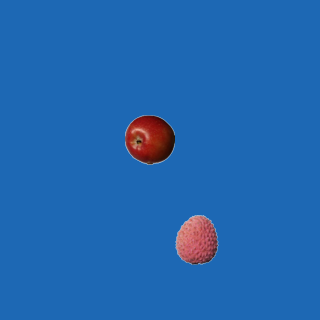Apple Braeburn: (124, 114, 174, 164)
Lychee: (171, 214, 221, 264)
